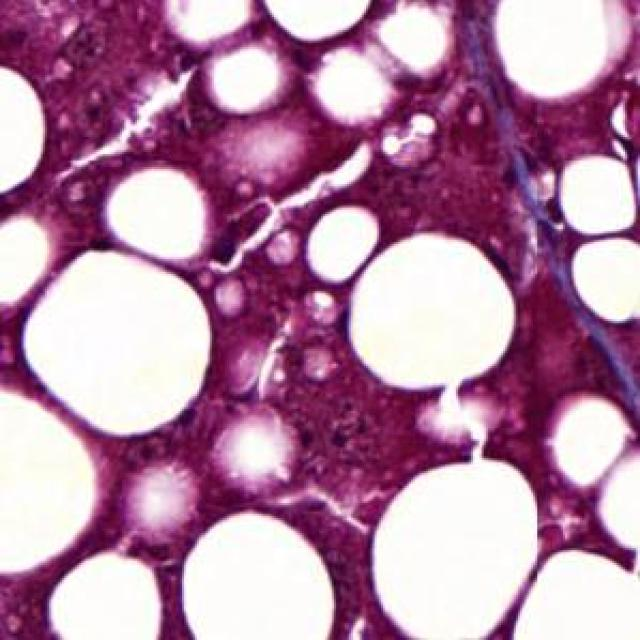steatosis: (19, 246, 210, 439), (178, 509, 334, 640), (0, 389, 96, 580), (47, 550, 163, 640), (561, 156, 640, 238), (0, 64, 45, 195), (573, 239, 640, 325), (263, 0, 366, 41)
